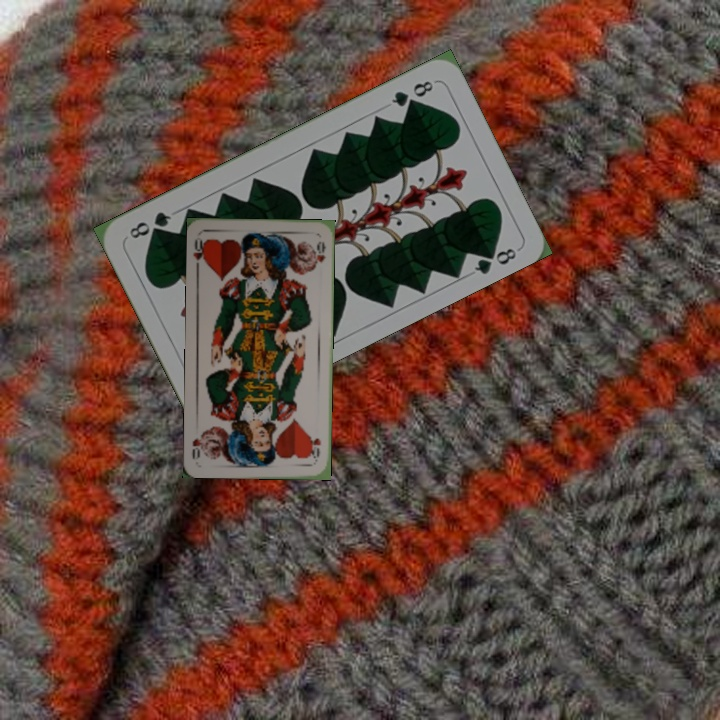G8: (387, 76, 437, 109)
HO: (189, 233, 209, 273), (307, 432, 324, 463)
